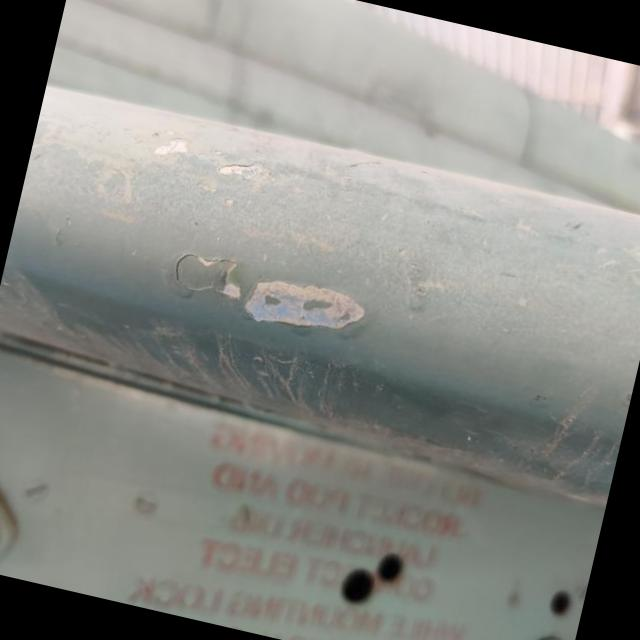Paint-off: (239, 276, 365, 339)
